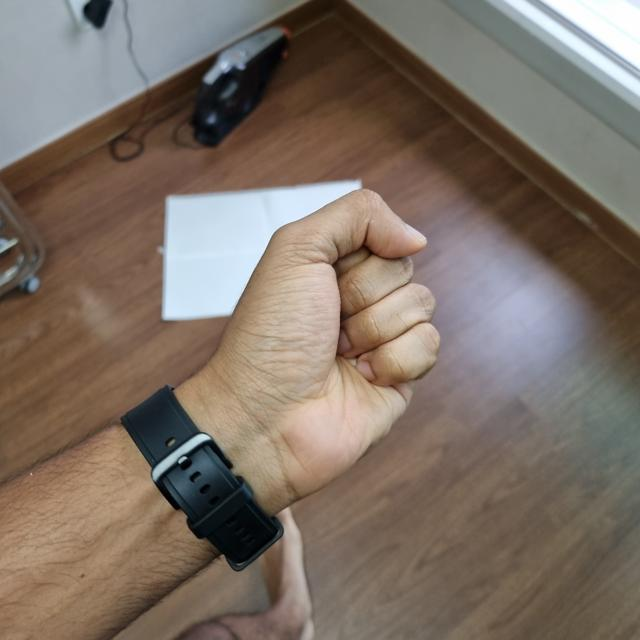Rock: (185, 196, 430, 501)
